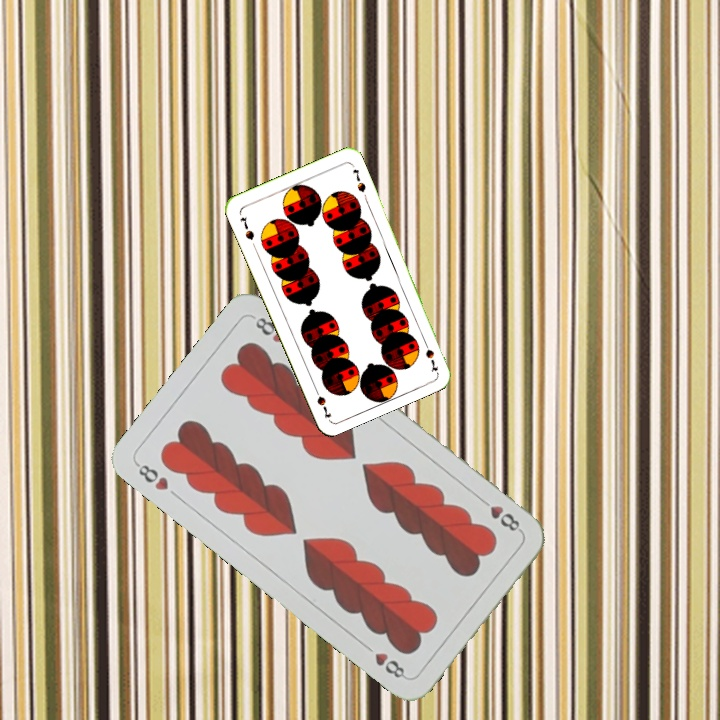H8: (475, 493, 525, 535), (131, 459, 172, 493)
S7: (419, 335, 441, 374), (236, 212, 257, 243)
